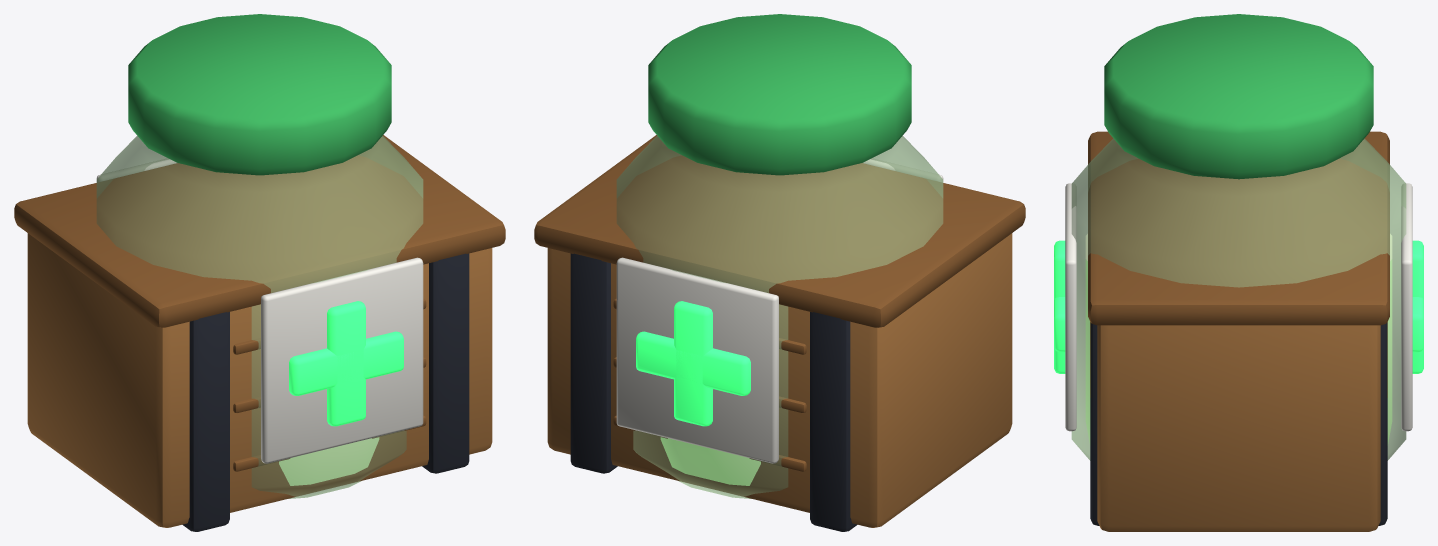
File: pickups.glb
3 views of the same model, side by side, from view 1: azimuth 30°, elevation 25°; view 2: azimuth 150°, elevation 25°; view 3: azimuth 270°, elevation 25° (orthographic). The views are drawn at different scales.
Parts seen in each view (by area): view 1: AmmoCrate, HealthJar; view 2: AmmoCrate, HealthJar; view 3: AmmoCrate, HealthJar.
Boxes of the visible parts, x1,y1,x2,y2 form: AmmoCrate: (14,135,505,531); HealthJar: (96,14,423,498); AmmoCrate: (534,135,1025,531); HealthJar: (616,14,943,498); AmmoCrate: (1088,131,1389,531); HealthJar: (1054,14,1423,460).
Bounding box in the file's own units: 0.44 × 0.4575 × 0.392.
